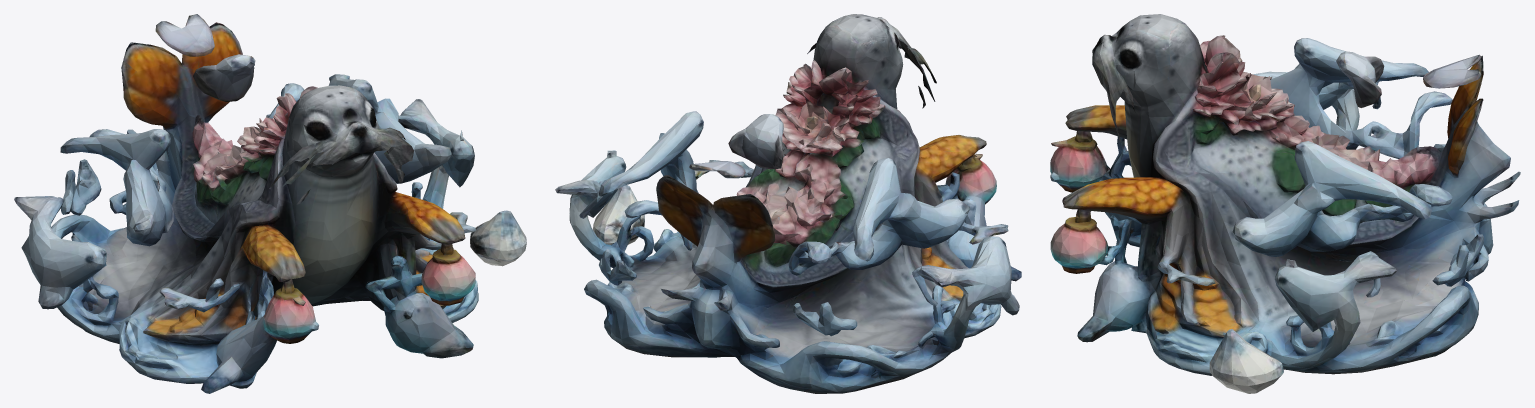
Rendered from selkira__silkieOfTheLostPod.glb.
3 renders of one model, left to right at view 1: azimuth 30°, elevation 25°; view 2: azimuth 150°, elevation 25°; view 3: azimuth 270°, elevation 25°, orthographic. The views are drawn at different scales.
Parts seen in each view (by area): view 1: world; view 2: world; view 3: world.
Part boxes in pixels (<box>): world: <box>14,14,526,393</box>; world: <box>555,14,1021,393</box>; world: <box>1050,14,1520,393</box>.
Size of the model in its own units: 0.9994 by 0.5497 by 0.8489.
Materials: 1 (1 with a texture image).
